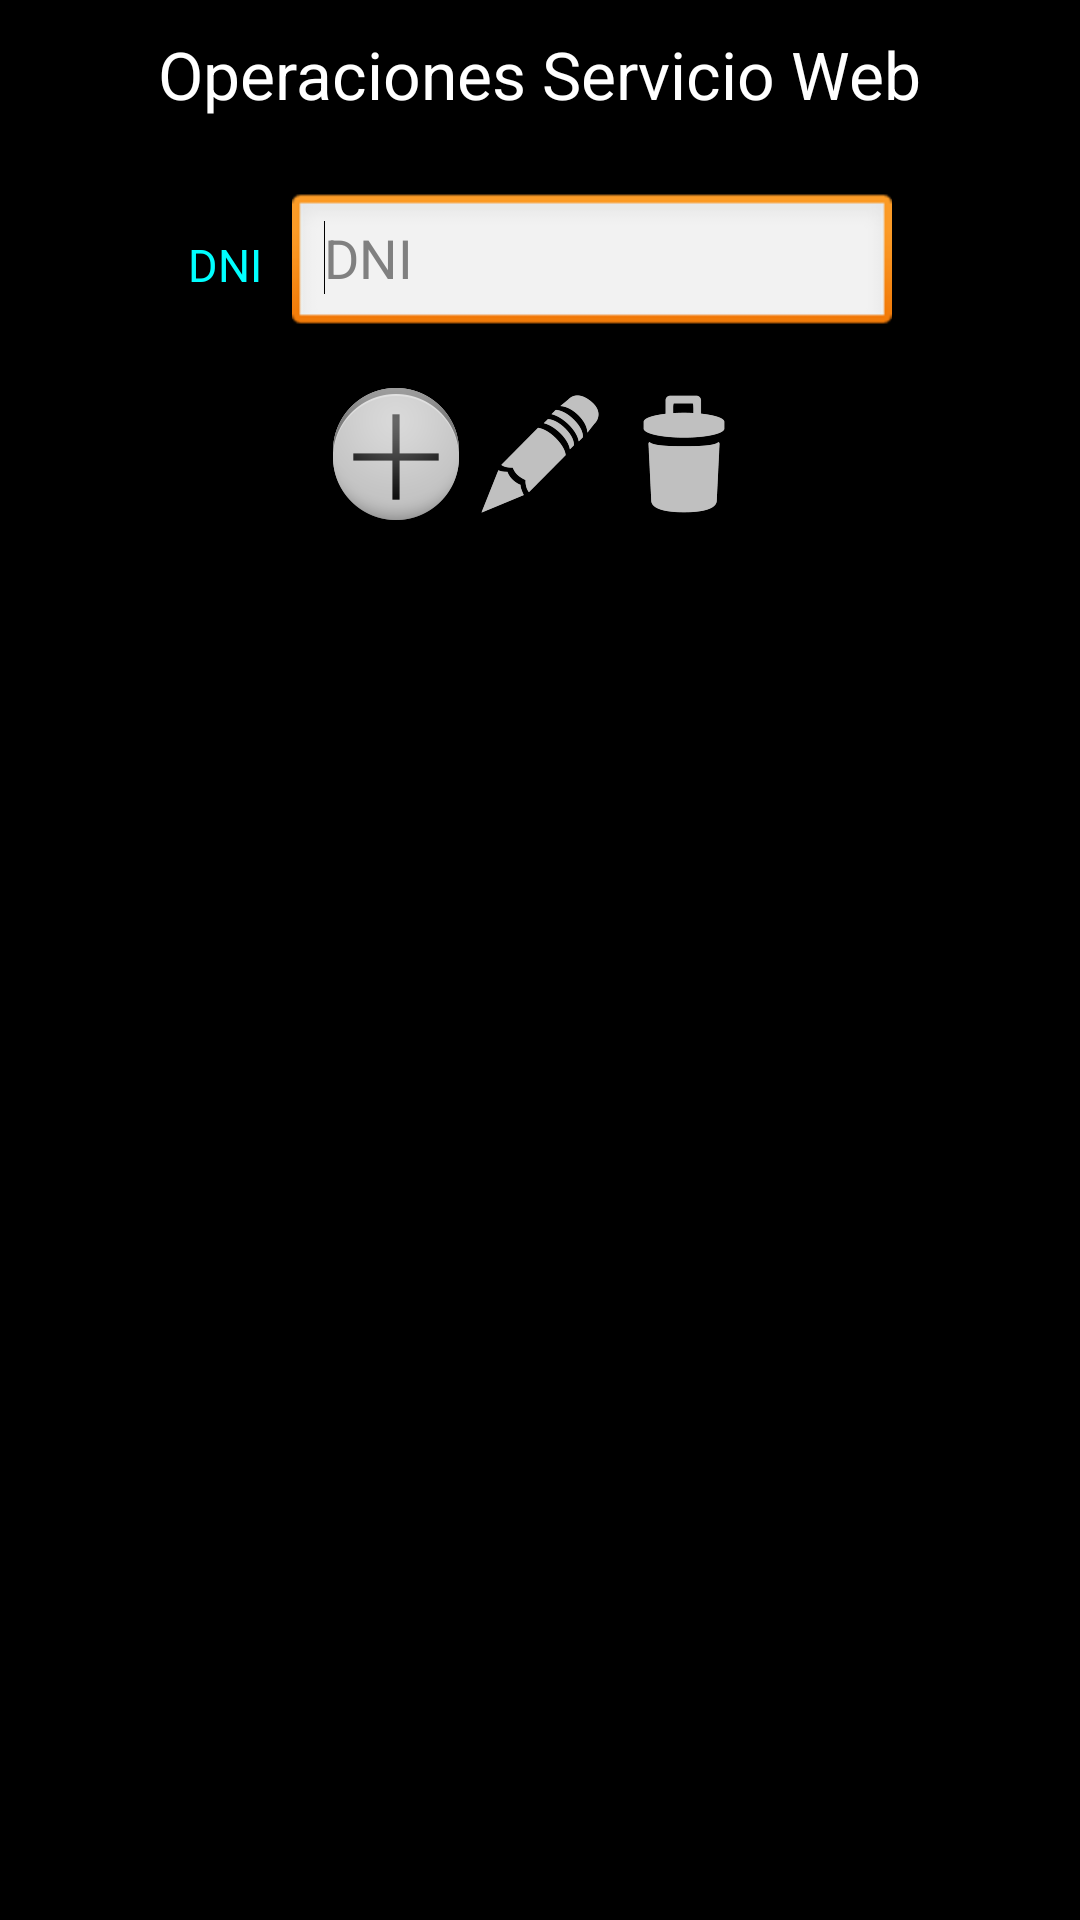

Icons on this 1080x1920 Android screen, each with its box as (x1, y1, x2, y2):
Botón de borrado: (643, 395, 725, 513)
Botón de inserción: (333, 388, 459, 520)
Botón de modificación: (481, 395, 599, 513)
